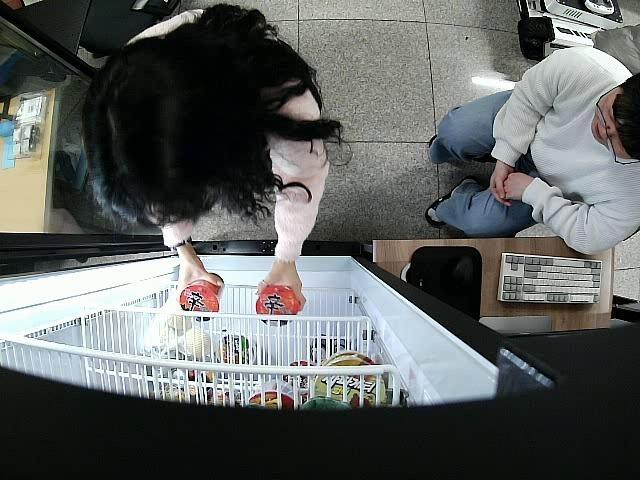02_shinRamen_S: (180, 274, 223, 322), (254, 284, 299, 325)
